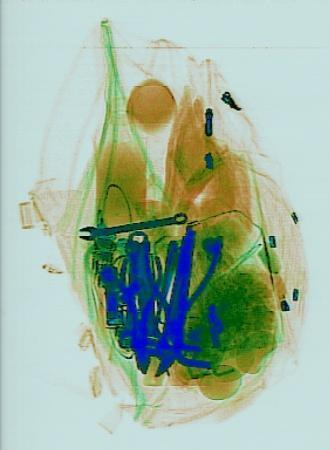Pliers: (133, 232, 220, 346)
Wrench: (116, 226, 175, 380), (76, 207, 187, 241)
